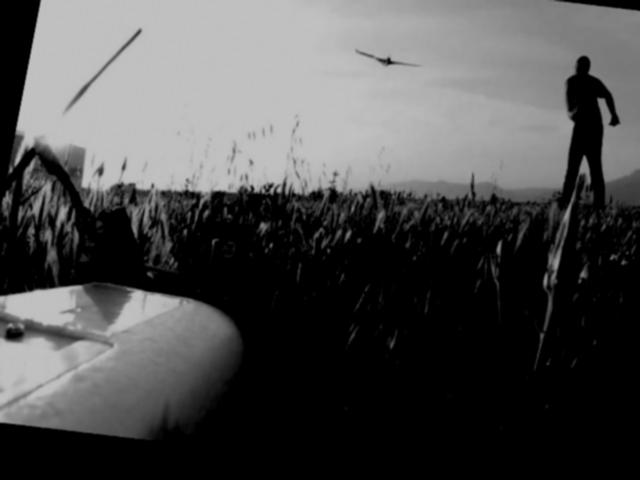hedef: (348, 44, 428, 88)
